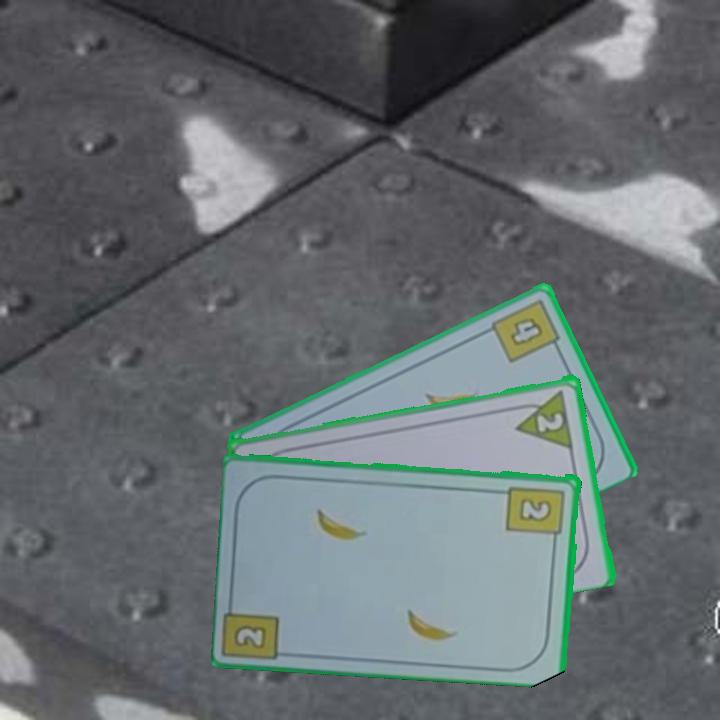2b: (504, 482, 568, 546), (230, 621, 270, 651)
2p: (534, 408, 567, 435)
4b: (487, 295, 565, 366)
